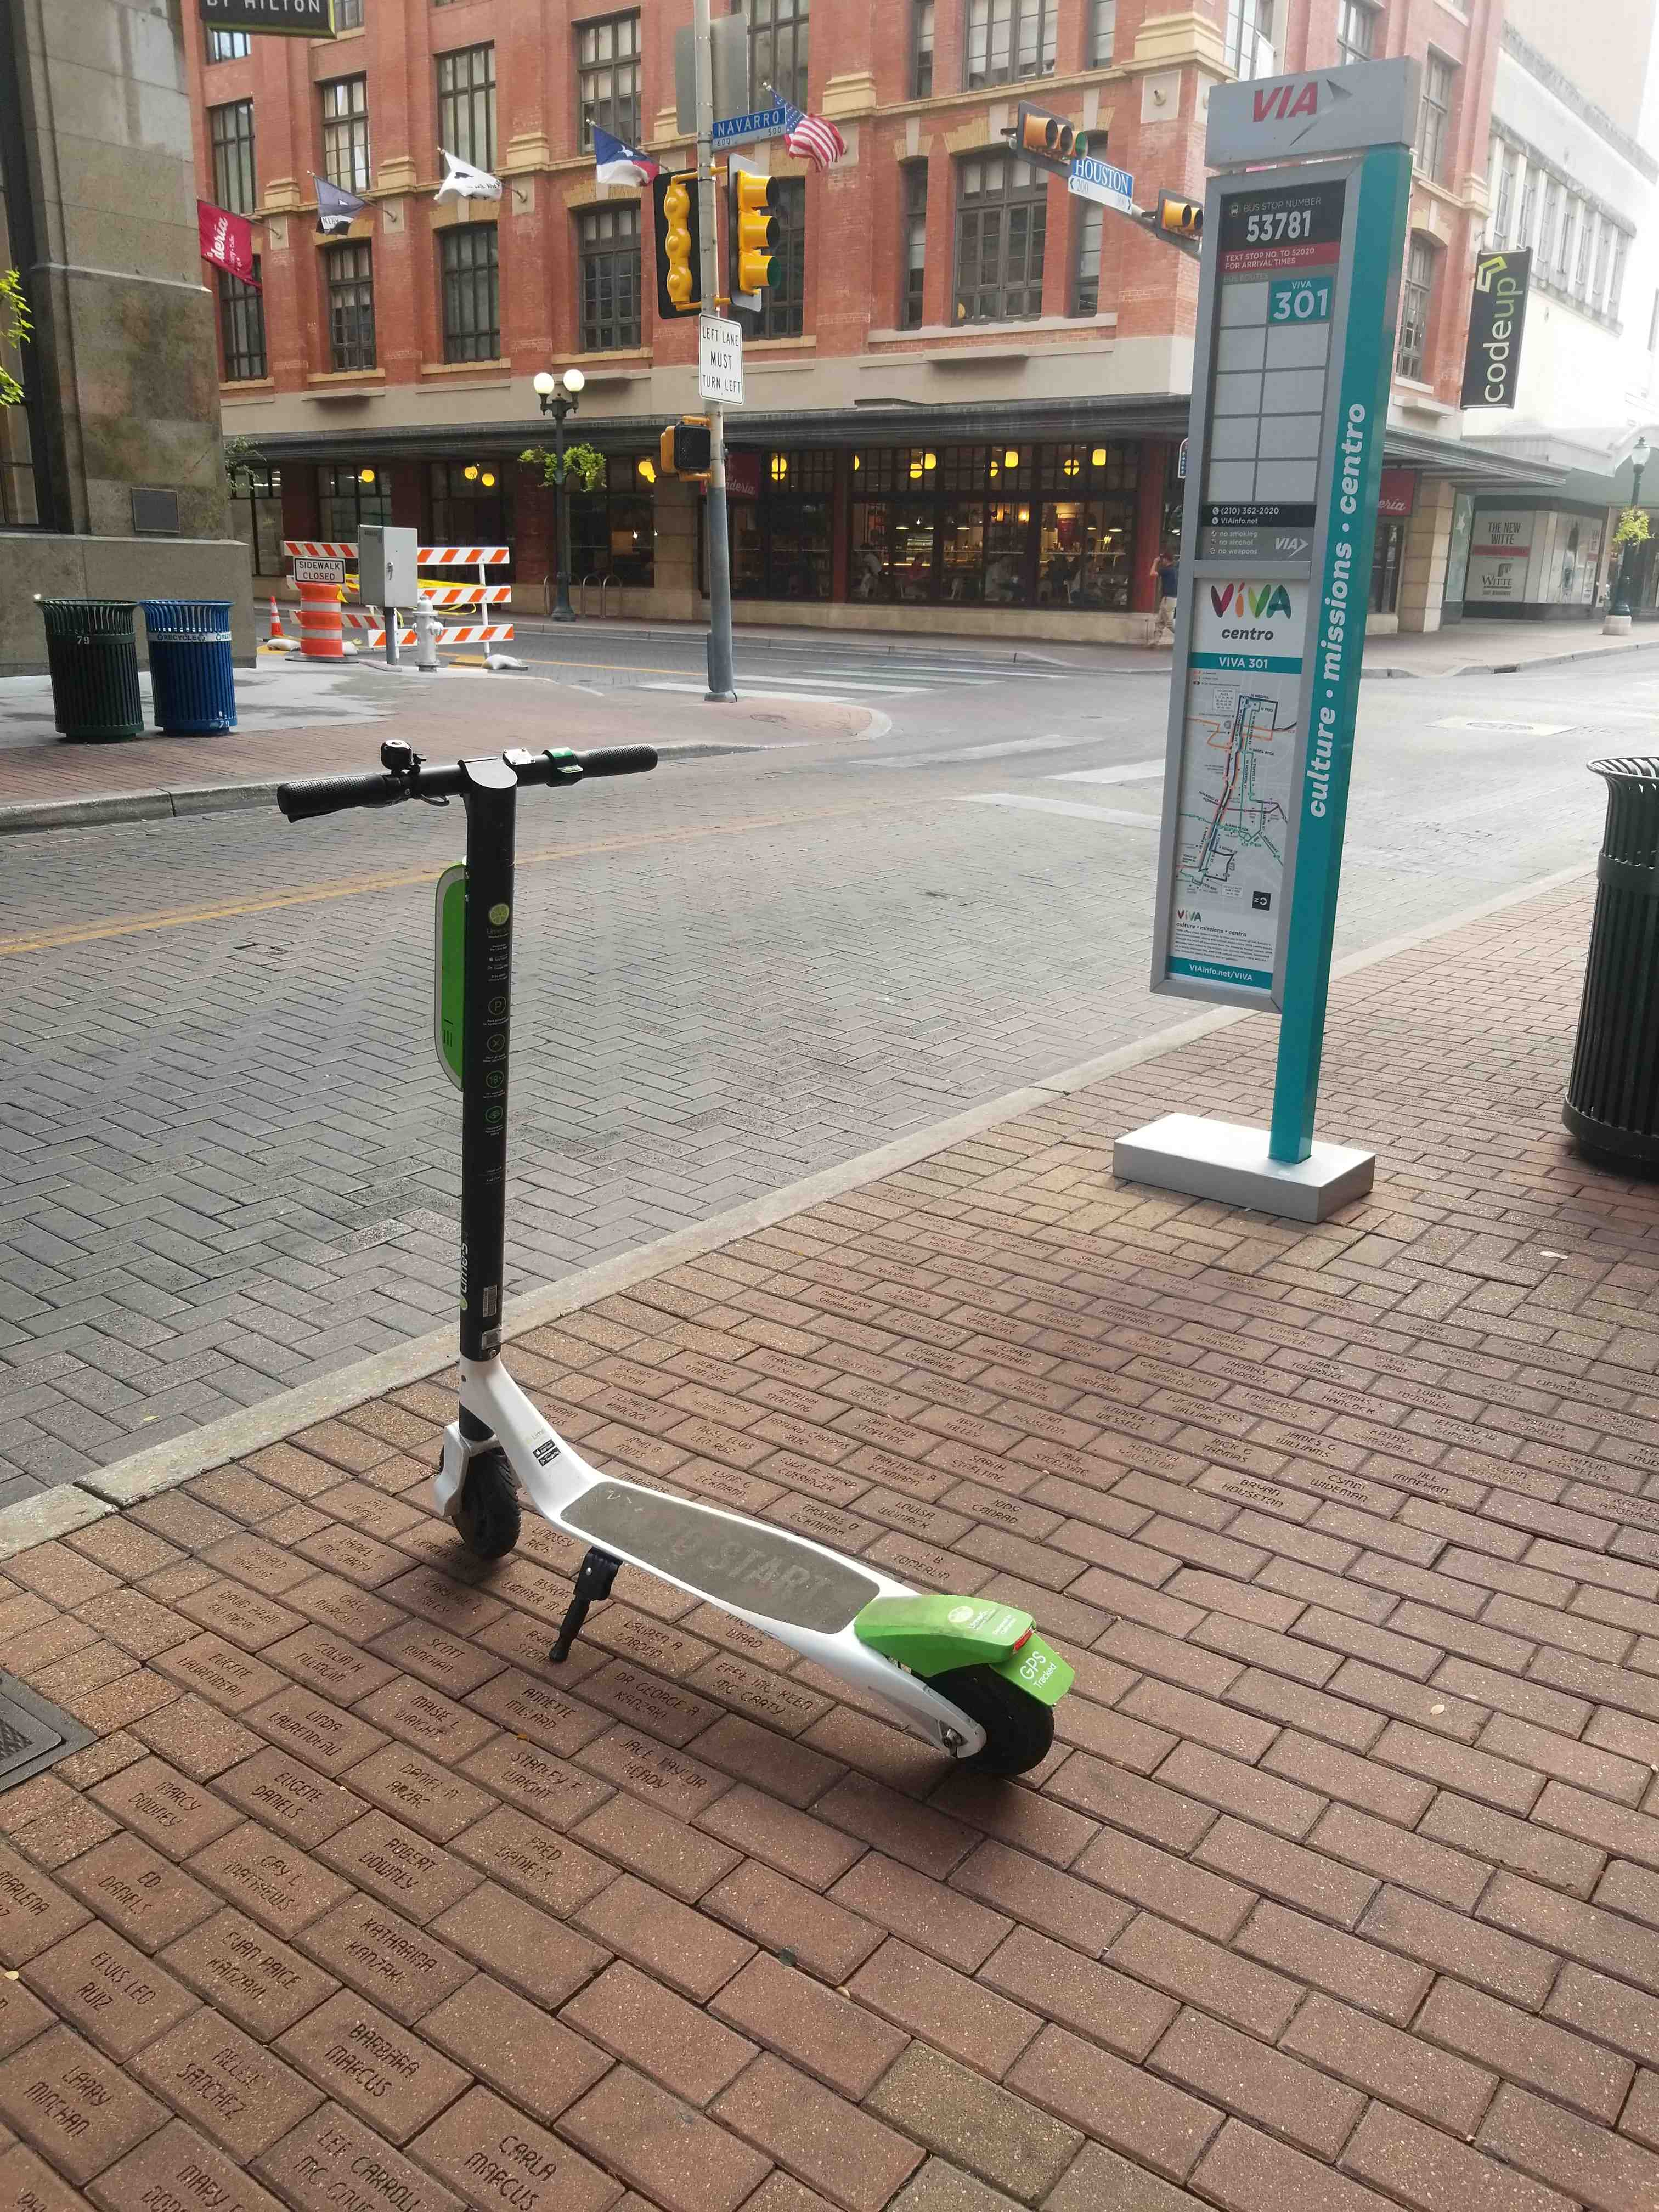scooter: (251, 732, 1101, 1763)
